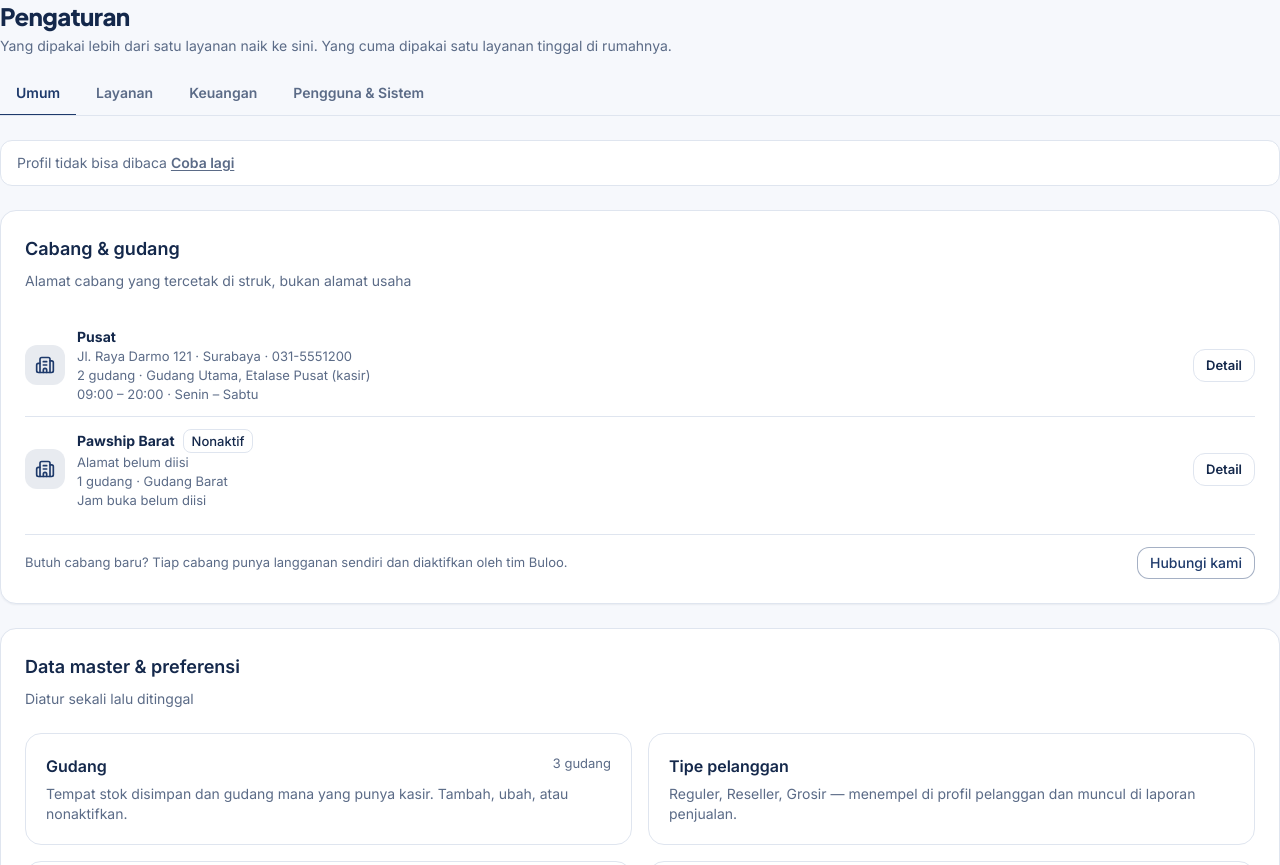
Test: GeneralSettingsScreen › shows the API message when the profile fails, and retries on demand
Expected: the text "Profil tidak bisa dibaca Coba lagi" is shown, [17,153,234,173]
Click the button "Coba lagi": (203, 163) [171,153,234,173]
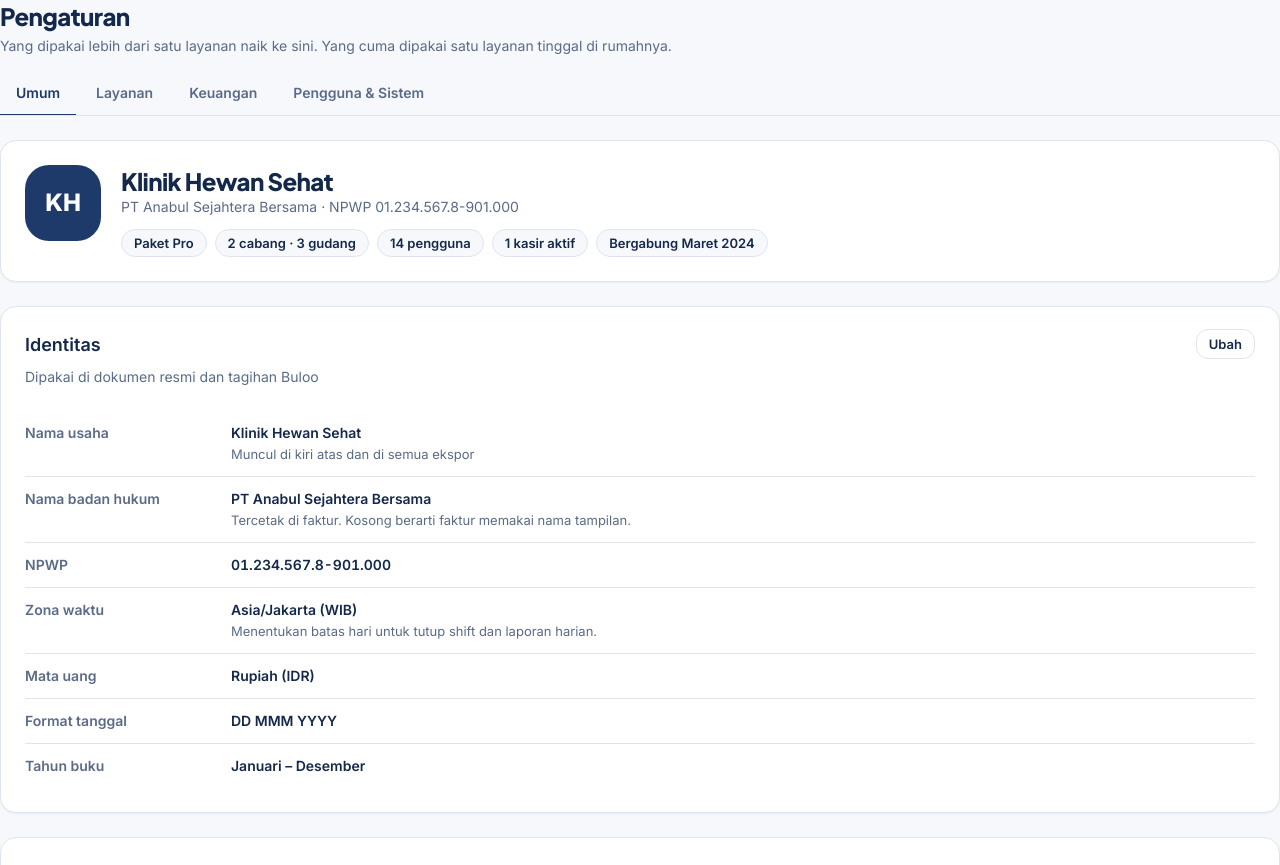
Now the heading "Klinik Hewan Sehat" is shown, box [121,165,333,197]
